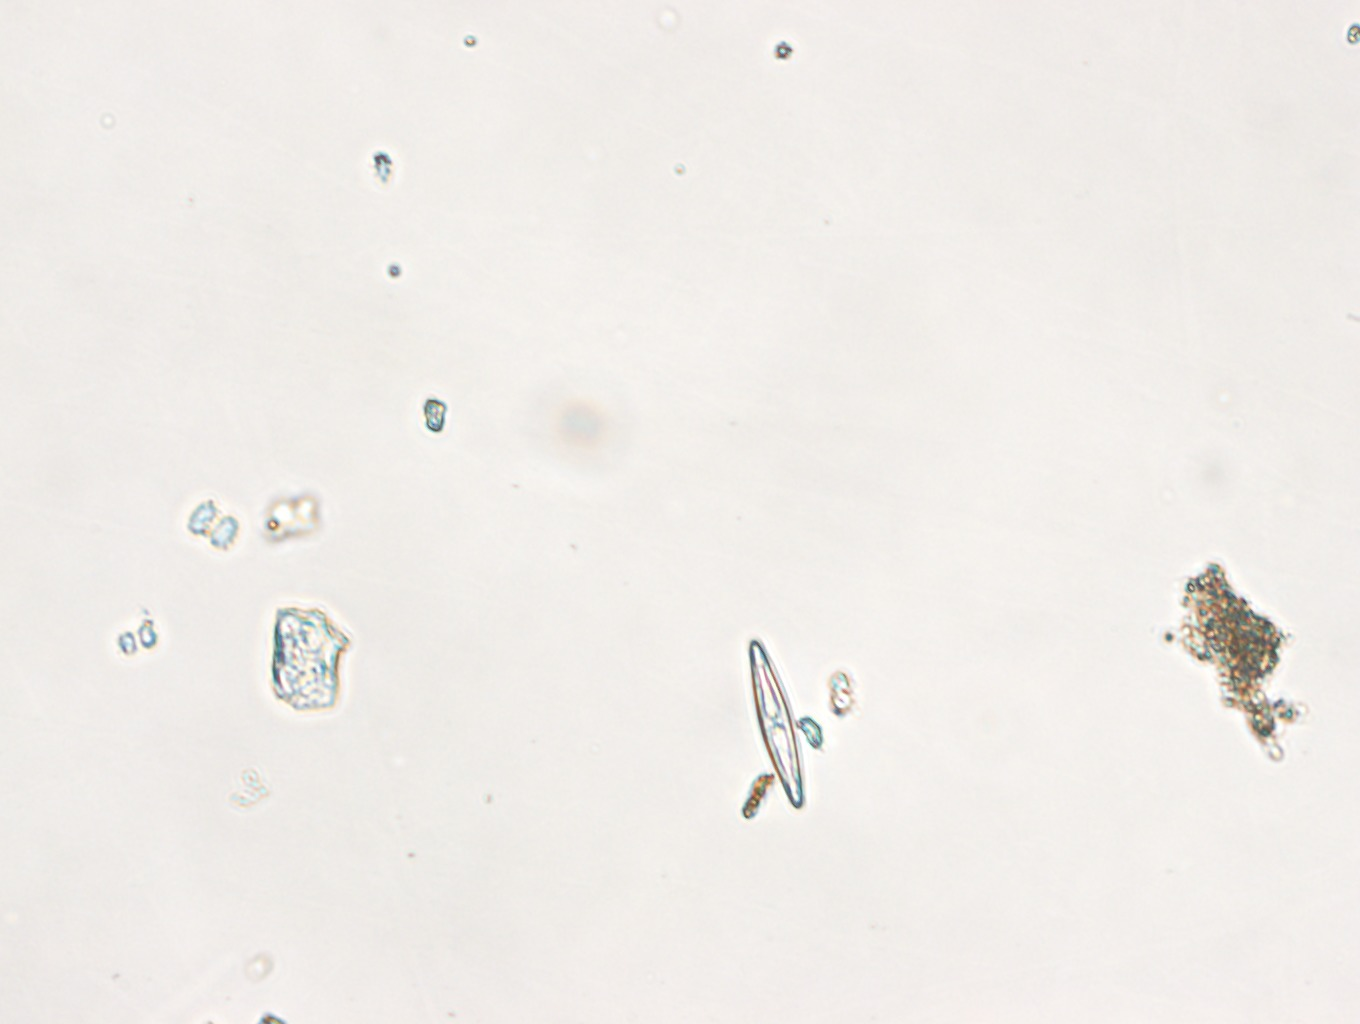dinophysis caudata: (1173, 566, 1306, 769)
navicula: (738, 639, 812, 809)
